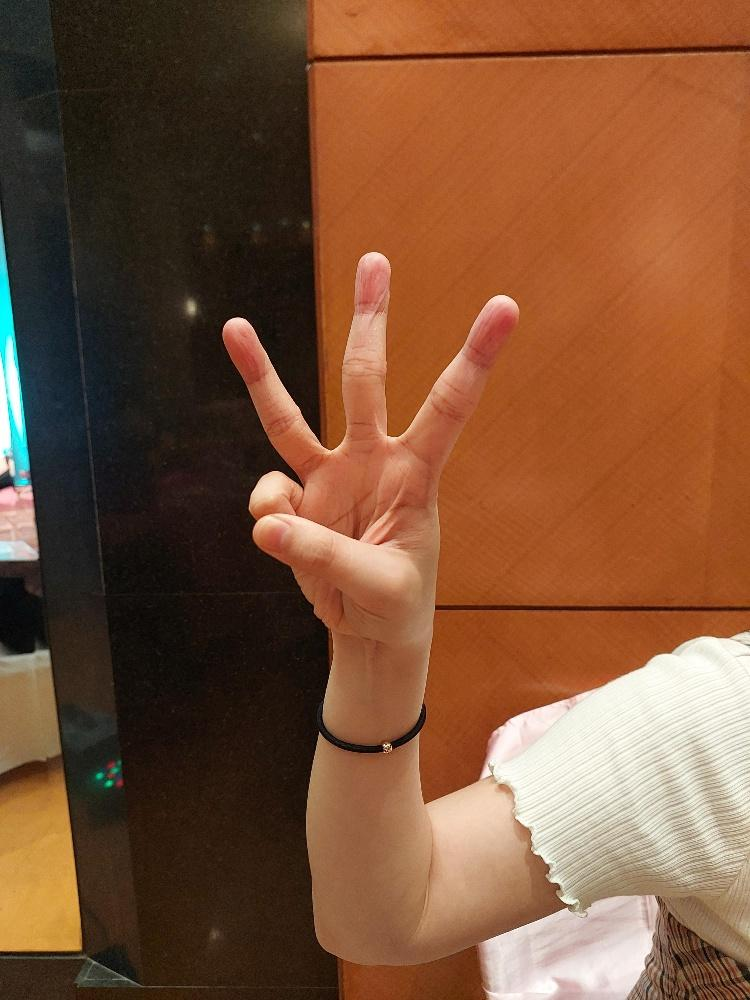w: (219, 246, 523, 653)
